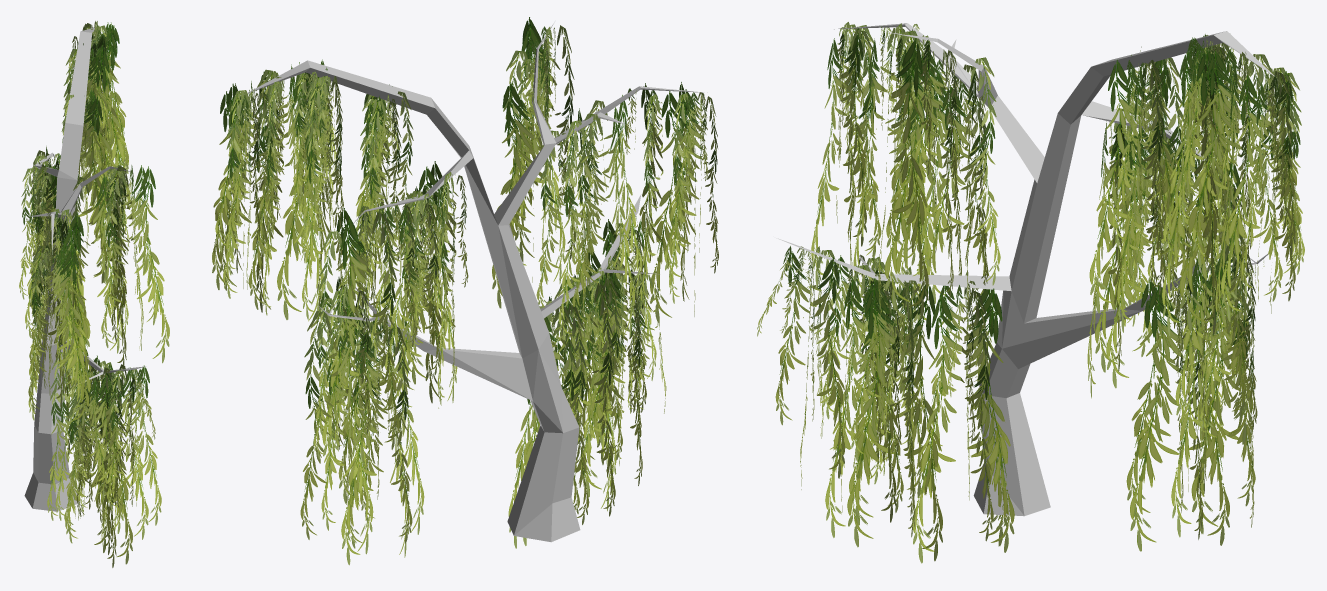
The model's file is WillowTree.fbx.
3 views of the same model, side by side, from view 1: azimuth 30°, elevation 25°; view 2: azimuth 150°, elevation 25°; view 3: azimuth 270°, elevation 25° (orthographic). The views are drawn at different scales.
Parts seen in each view (by area): view 1: tree base; view 2: tree base; view 3: tree base.
Boxes of the visible parts, left/top/right/bottom form: tree base: left=19, top=21, right=169, bottom=567; tree base: left=212, top=17, right=718, bottom=565; tree base: left=757, top=22, right=1304, bottom=563.
Bounding box in the file's own units: 770 × 1231 × 1046.
